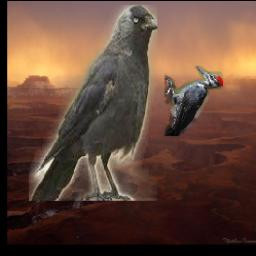Crow: (30, 5, 158, 201)
Woodpecker: (166, 66, 224, 136)
